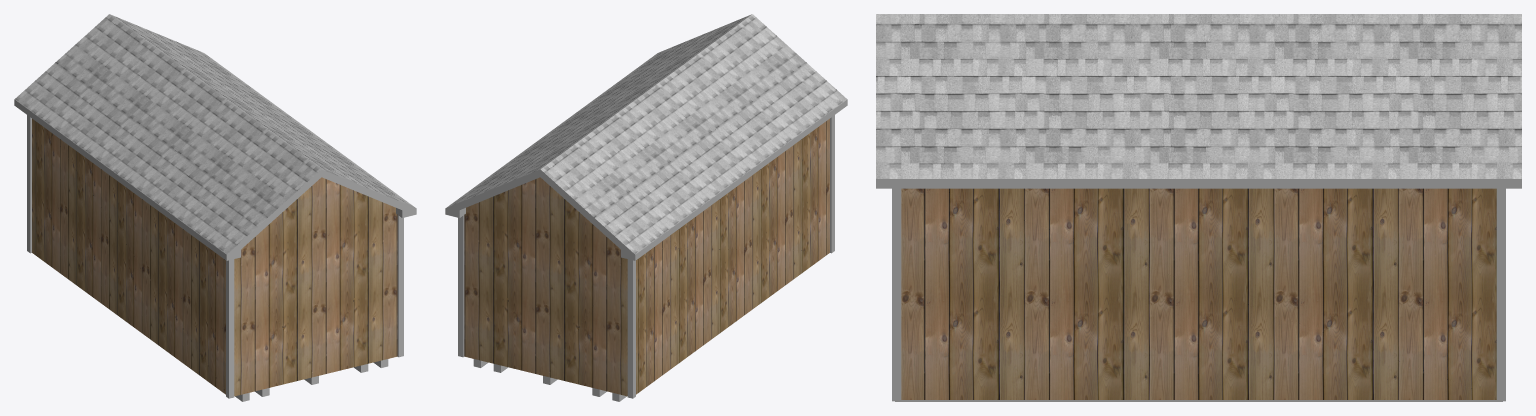
File: Classic A-Frame_8x16.obj
3 renders of one model, left to right at view 1: azimuth 30°, elevation 25°; view 2: azimuth 150°, elevation 25°; view 3: azimuth 270°, elevation 25°, orthographic. The views are drawn at different scales.
Visible parts, largest first — view 1: Shed, Roof, Sides, Trim, Floor; view 2: Shed, Roof, Sides, Trim, Floor; view 3: Shed, Roof, Sides, Trim, Floor.
Boxes of the visible parts, x1,y1,x2,y2 form: Shed: (32, 118, 397, 396); Roof: (14, 14, 415, 254); Sides: (14, 99, 416, 260); Trim: (27, 115, 403, 398); Floor: (235, 359, 388, 401); Shed: (464, 118, 829, 396); Roof: (446, 14, 847, 254); Sides: (445, 99, 847, 260); Trim: (458, 115, 834, 398); Floor: (473, 359, 626, 401); Shed: (901, 188, 1496, 399); Roof: (876, 14, 1521, 178); Sides: (876, 179, 1521, 188); Trim: (892, 188, 1505, 401); Floor: (895, 400, 1502, 401).
Bounding box in the file's own units: 2.68 × 2.96 × 5.18.
